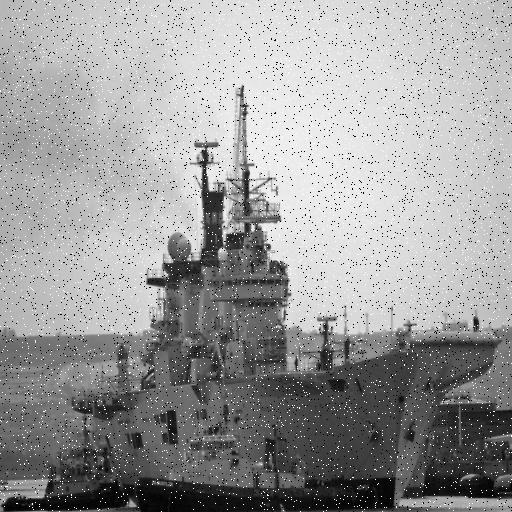Portanaves: (71, 67, 503, 512)
